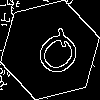Q: (25, 25, 87, 87)
